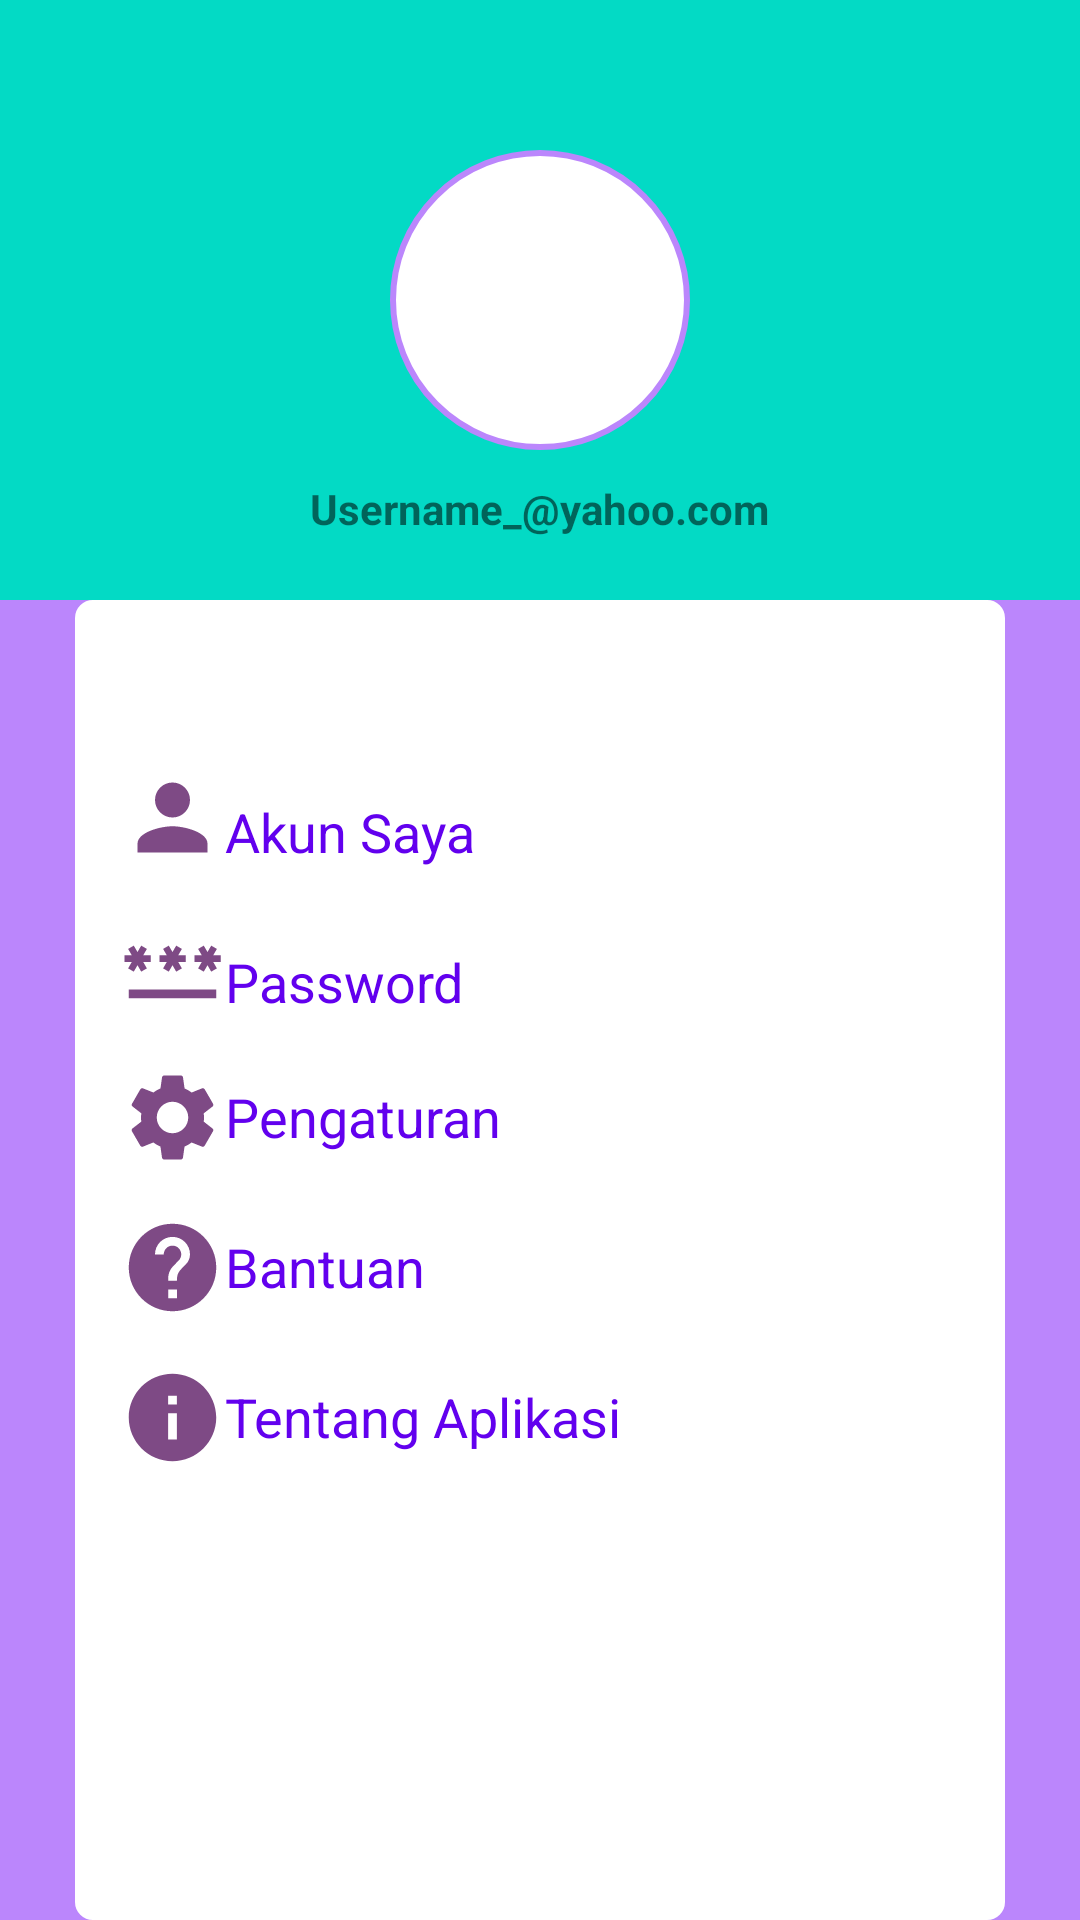

Named icons in this screenshot (1080×1920) and their bounding boxes, detection(x1, y1, x2, y2):
help: detection(128, 1223, 217, 1312)
info: detection(128, 1373, 217, 1462)
person: detection(137, 782, 208, 853)
settings: detection(131, 1075, 214, 1160)
